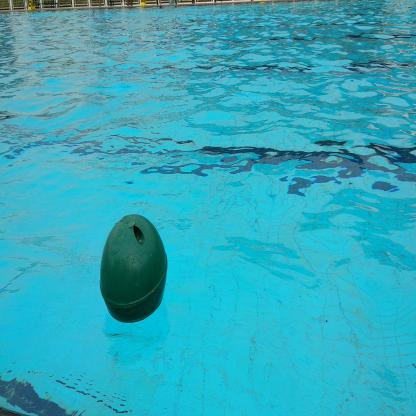green_buoy: (97, 210, 171, 328)
